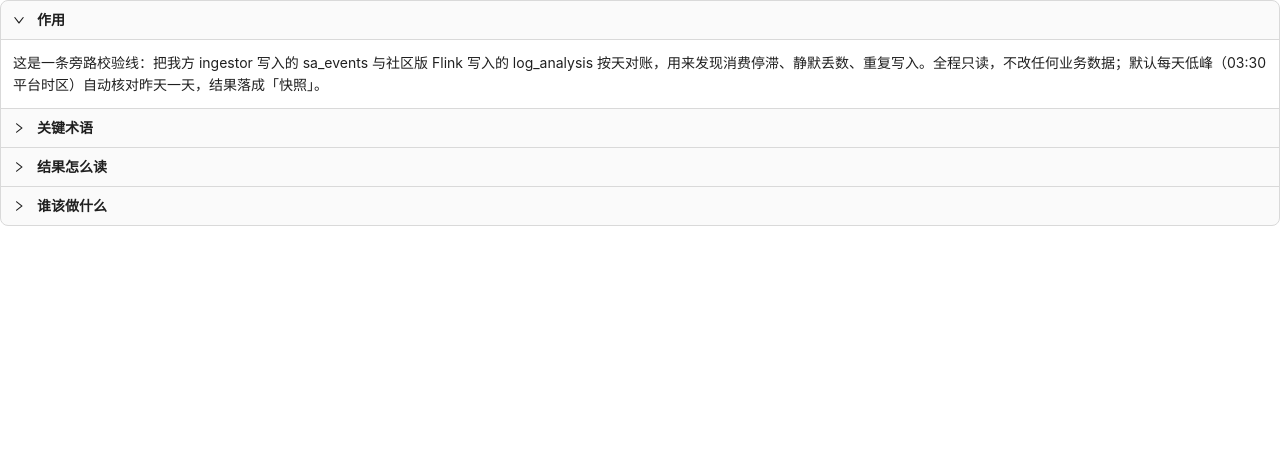
Test case: QualityGuide（数据质量页说明区） › 展开「关键术语」后能看到可信区间与已清理的定义（可收起/展开）
What coordinates should you click on to do the following:
click the button "关键术语"
I would click on:
 (53, 128)
Its box is [13,119,93,136].
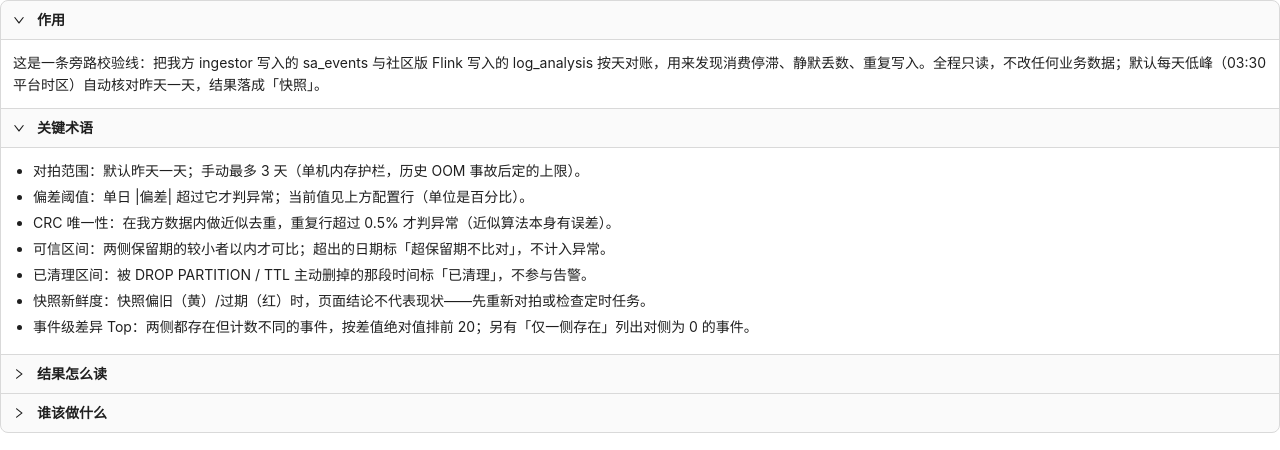
Check: the list item "可信区间：两侧保留期的较小者以内才可比；超出的日期标「超保留期不比对」，不计入异常。" is shown, box [33,240,614,257]
Check: the list item "已清理区间：被 DROP PARTITION / TTL 主动删掉的那段时间标「已清理」，不参与告警。" is shown, box [33,266,595,283]
